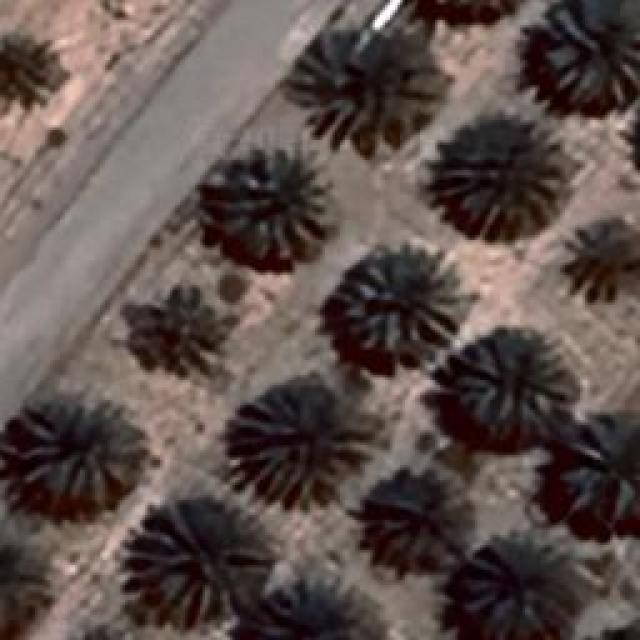PalmTree: (230, 385, 370, 510), (127, 505, 270, 620), (300, 32, 435, 150), (432, 132, 566, 240), (15, 400, 143, 510), (340, 252, 465, 360), (210, 150, 330, 262), (464, 540, 582, 640), (538, 418, 638, 528), (540, 0, 635, 110), (458, 330, 572, 420), (122, 280, 228, 375), (368, 475, 470, 563), (269, 585, 379, 640), (0, 542, 62, 637), (0, 25, 65, 115), (567, 227, 640, 297), (396, 0, 538, 31)
